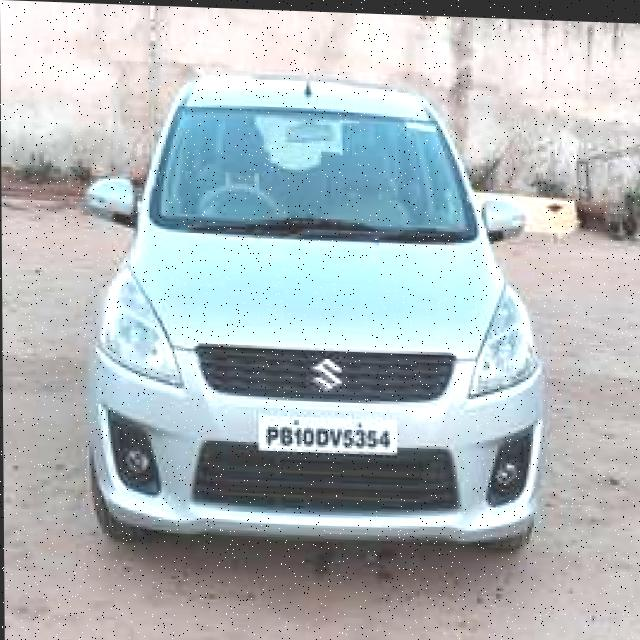plate: (254, 403, 399, 456)
